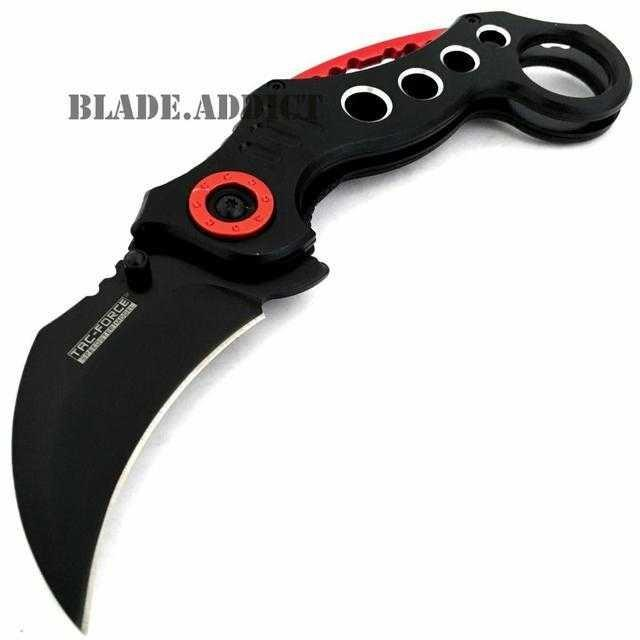Knife: (2, 0, 624, 619)
